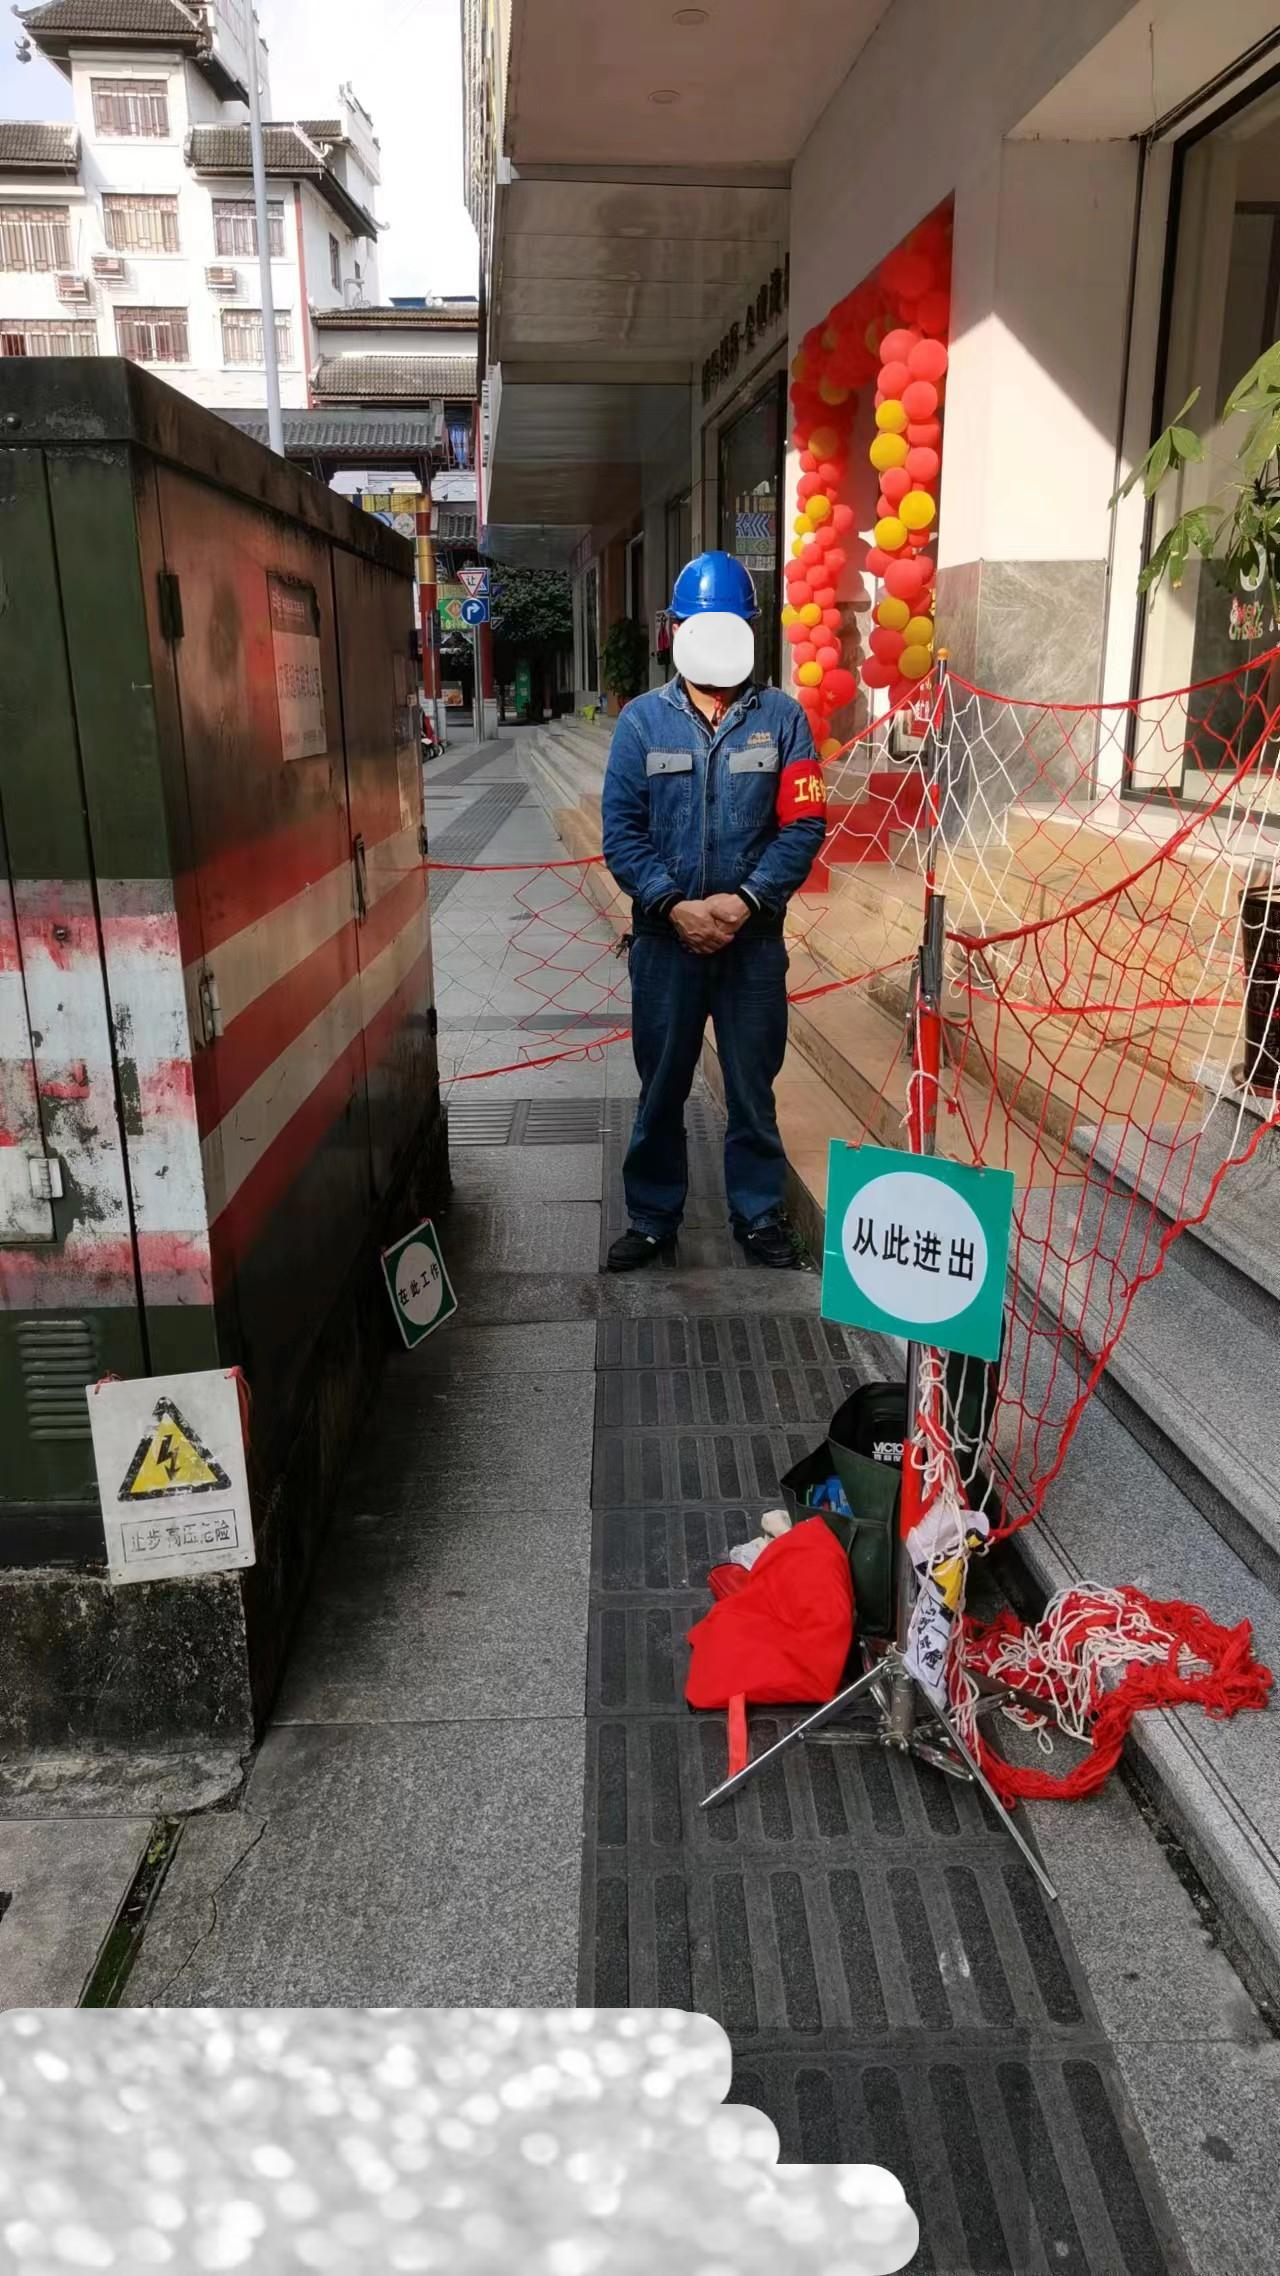halt: (663, 552, 761, 686)
